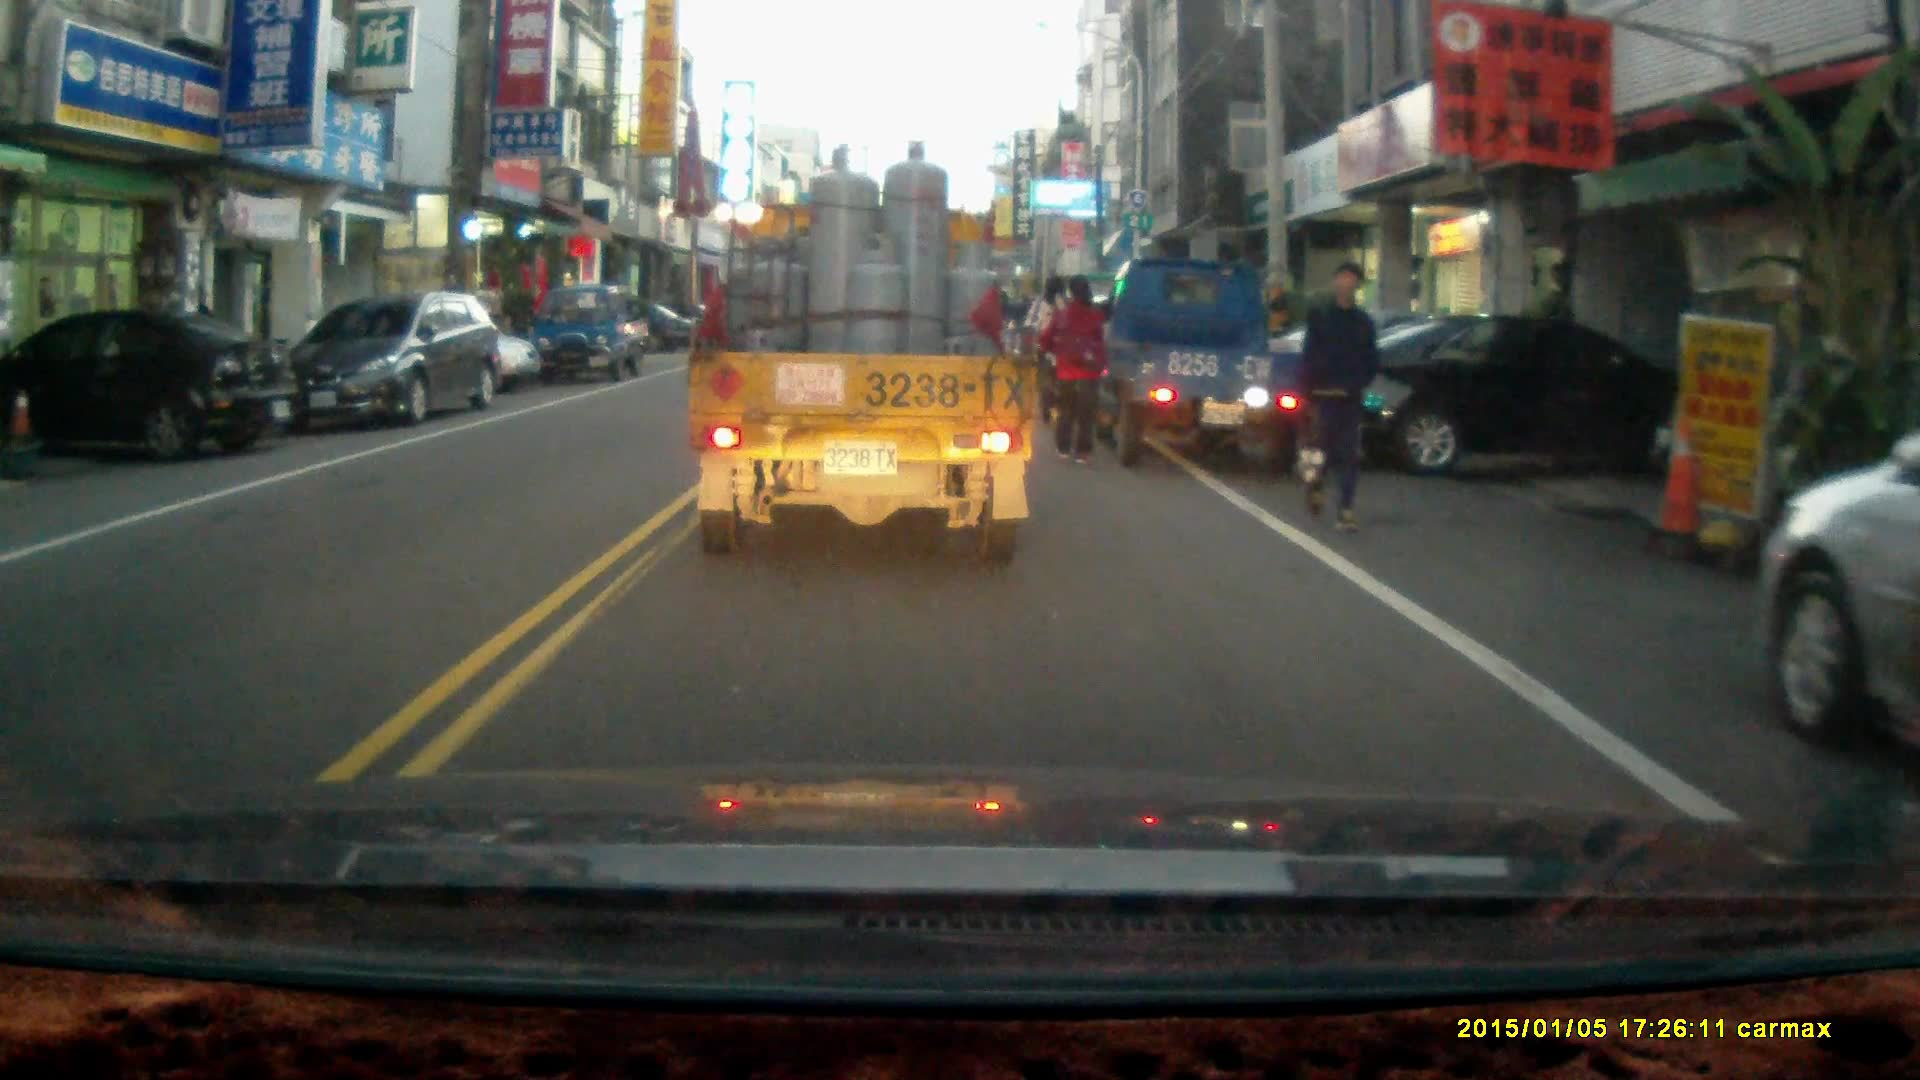pedestrian: (1290, 259, 1376, 532), (1038, 270, 1108, 464)
vehicle: (682, 140, 1041, 570), (1310, 304, 1648, 486), (1100, 255, 1339, 473), (1, 305, 303, 467), (1748, 475, 1920, 754), (273, 289, 512, 430), (533, 278, 653, 381)
